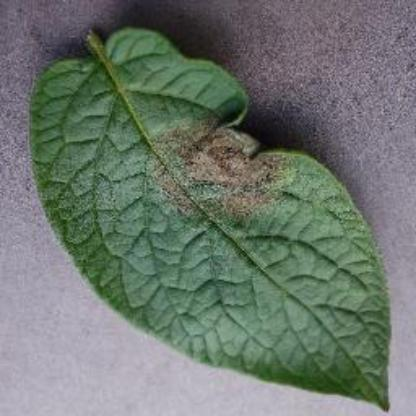Late-Blight: (27, 21, 399, 412)
